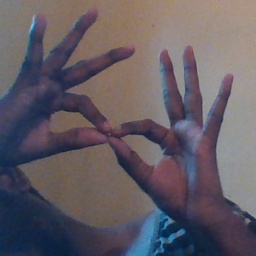B: (35, 72, 179, 194)
